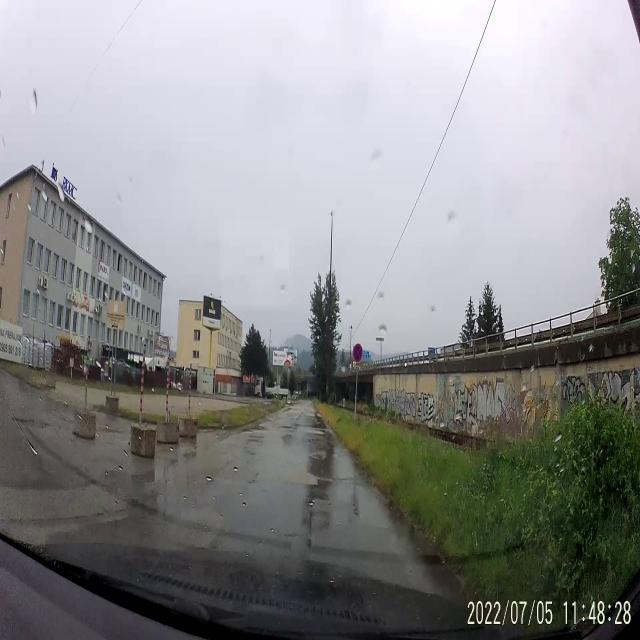Pothole: (300, 484, 330, 516), (306, 448, 330, 463)
